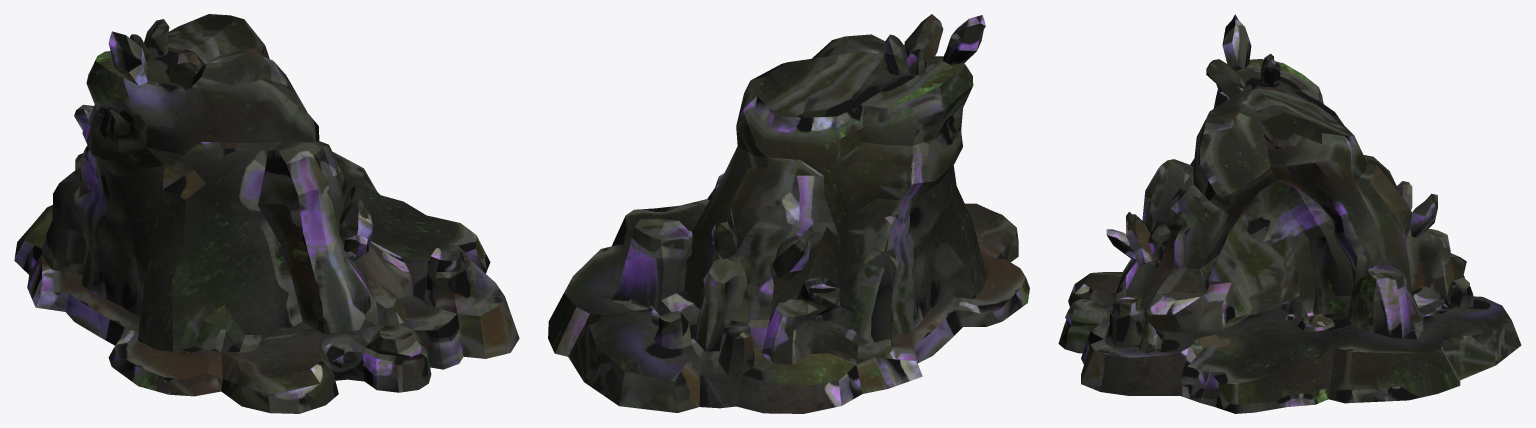
The model's file is BGEAsset.fbx.
3 renders of one model, left to right at view 1: azimuth 30°, elevation 25°; view 2: azimuth 150°, elevation 25°; view 3: azimuth 270°, elevation 25°, orthographic. The views are drawn at different scales.
Visible parts, largest first — view 1: BGEAsset.001; view 2: BGEAsset.001; view 3: BGEAsset.001.
Boxes of the visible parts, box(x1,y1,x2,y2) form: BGEAsset.001: box(14, 14, 519, 413); BGEAsset.001: box(548, 14, 1029, 413); BGEAsset.001: box(1058, 14, 1521, 413).
Size of the model in its own units: 21.48 by 17.17 by 28.12.
1 material, 1 textured.
